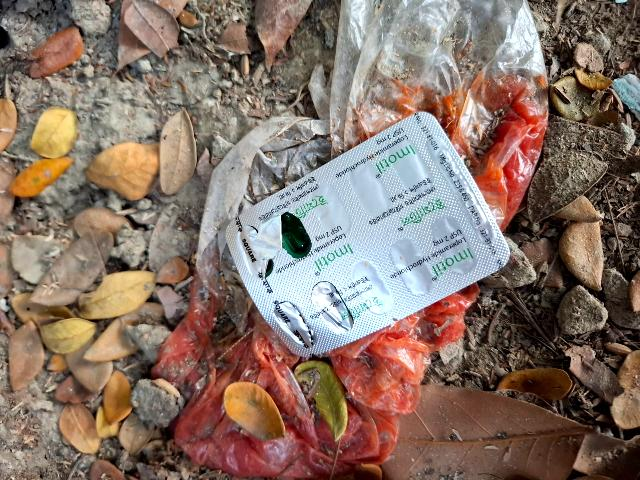medicine: (204, 103, 520, 401)
